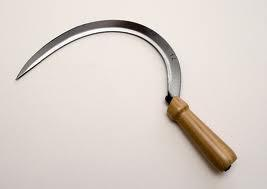foice: (16, 20, 236, 171)
